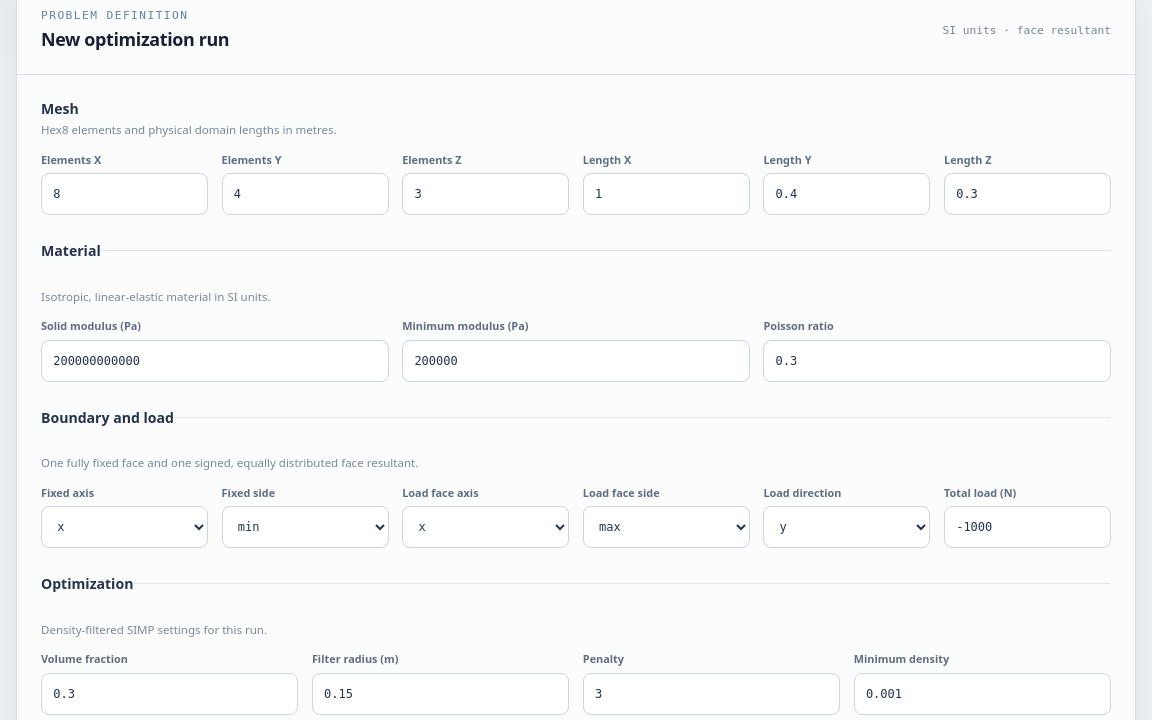
App › rejects an invalid material before submission
(page scrolled)
Replace the text in the number field labelled "Minimum modulus (Pa)" with "300000000000" at (576, 361), box [402, 340, 750, 382]
(page scrolled)
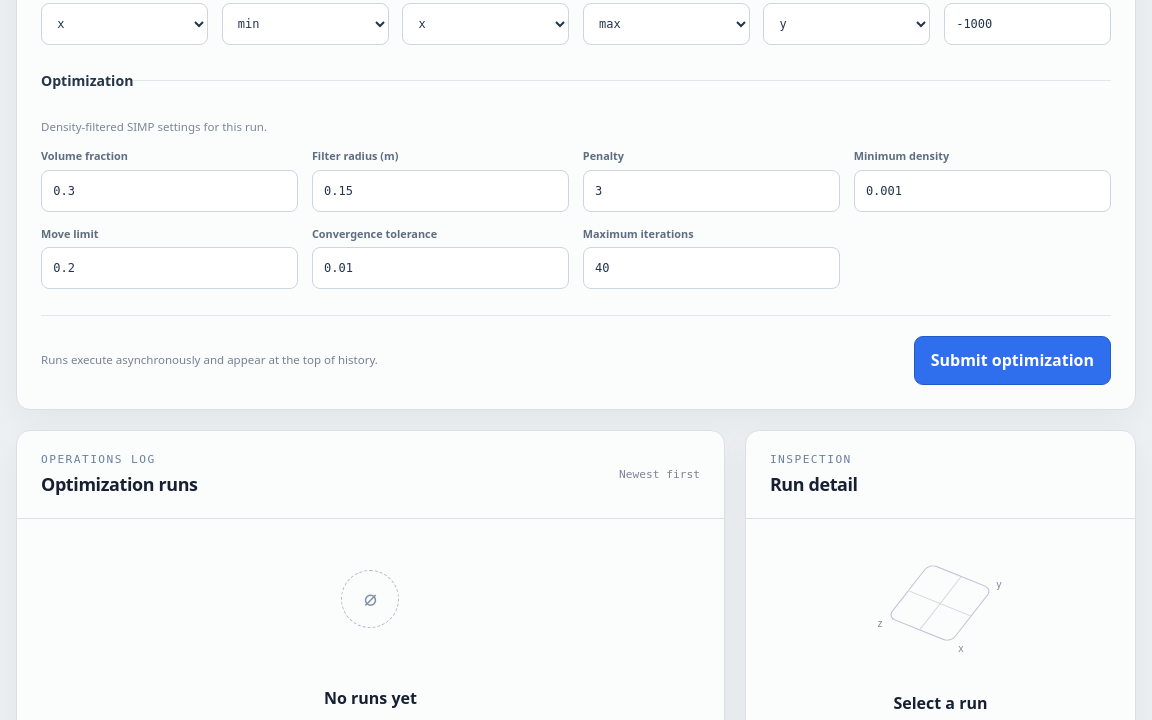
Click the button "Submit optimization".
click(1012, 360)  # box [914, 336, 1111, 385]
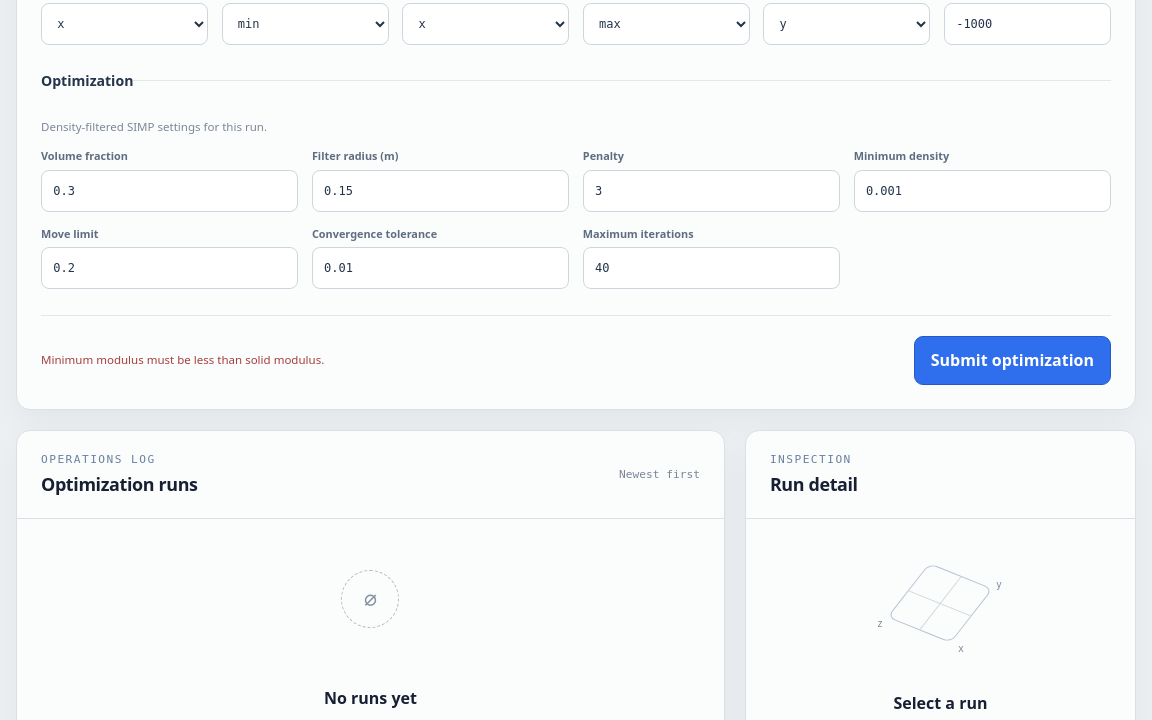
Expected: the text "Minimum modulus must be less than solid modulus." is shown, [41, 352, 324, 367]
